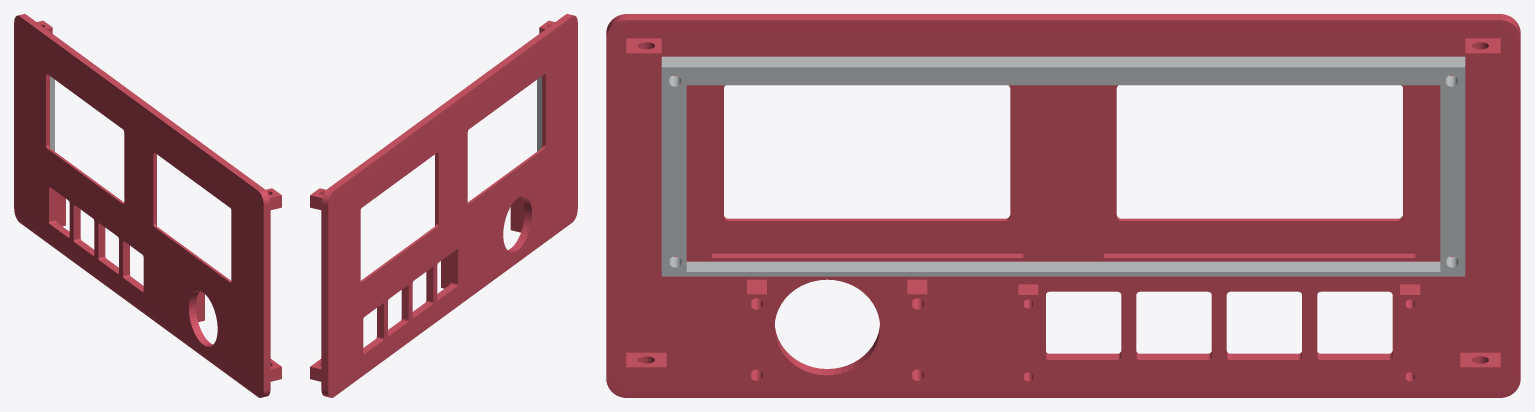
File: rav_frame_faceplate.glb
3 views of the same model, side by side, from view 1: azimuth 30°, elevation 25°; view 2: azimuth 150°, elevation 25°; view 3: azimuth 270°, elevation 25° (orthographic). The views are drawn at different scales.
Parts seen in each view (by area): view 1: Mesh_Mesh_head_geo.001_lambert2SG.001; view 2: Mesh_Mesh_head_geo.001_lambert2SG.001; view 3: Mesh_Mesh_head_geo.001_lambert2SG.001.
Boxes of the visible parts, <box> form: Mesh_Mesh_head_geo.001_lambert2SG.001: <box>14,14,281,397</box>; Mesh_Mesh_head_geo.001_lambert2SG.001: <box>310,14,577,397</box>; Mesh_Mesh_head_geo.001_lambert2SG.001: <box>606,14,1520,397</box>.
Bounding box in the file's own units: 0.01 × 0.083 × 0.182.
